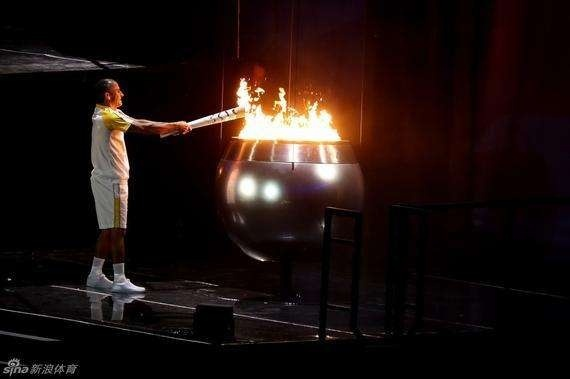fire: (234, 74, 340, 140)
